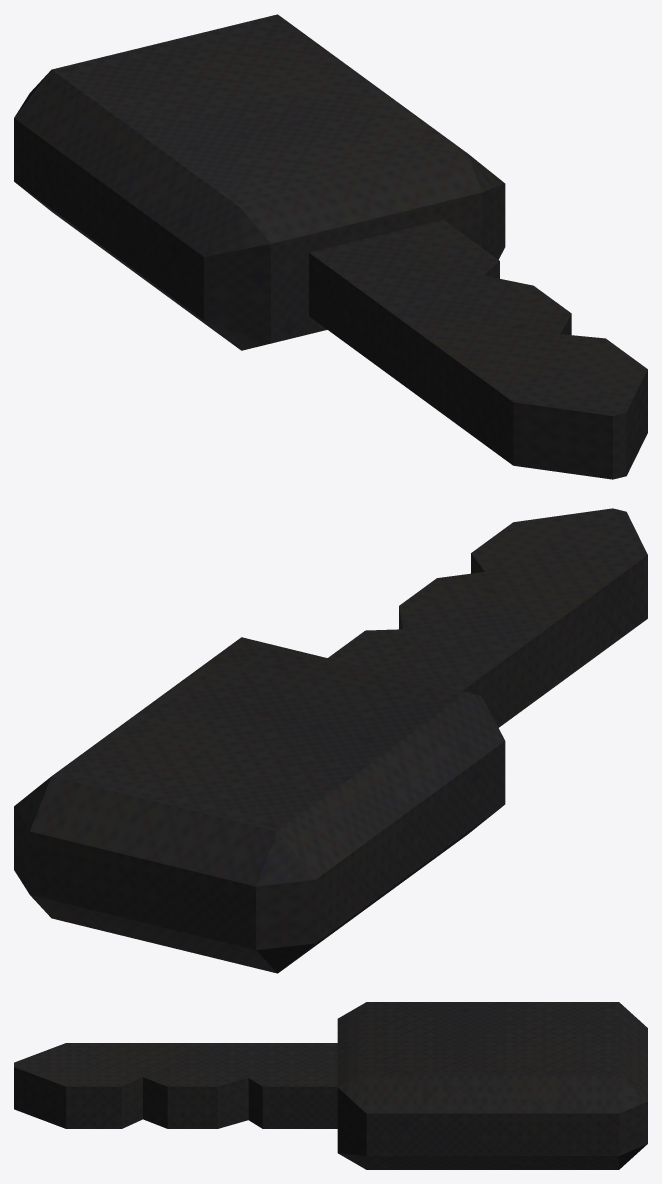
File: KeyFob.fbx
3 renders of one model, top to bottom at view 1: azimuth 30°, elevation 25°; view 2: azimuth 150°, elevation 25°; view 3: azimuth 270°, elevation 25°, orthographic. The views are drawn at different scales.
Parts seen in each view (by area): view 1: KeyFob; view 2: KeyFob; view 3: KeyFob.
Boxes of the visible parts, x1,y1,x2,y2 form: KeyFob: [14, 14, 647, 479]; KeyFob: [14, 508, 647, 973]; KeyFob: [14, 1002, 647, 1169].
Bounding box in the file's own units: 0.0495 × 0.0223 × 0.1356.
1 material, 1 textured.
